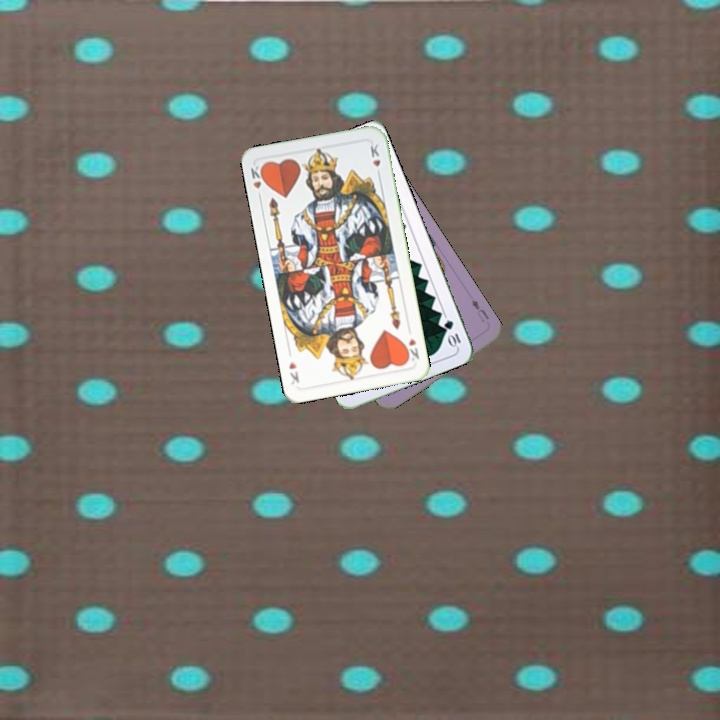EU: (467, 295, 491, 325)
G10: (440, 316, 463, 350)
HK: (246, 161, 269, 202), (401, 334, 422, 363)
